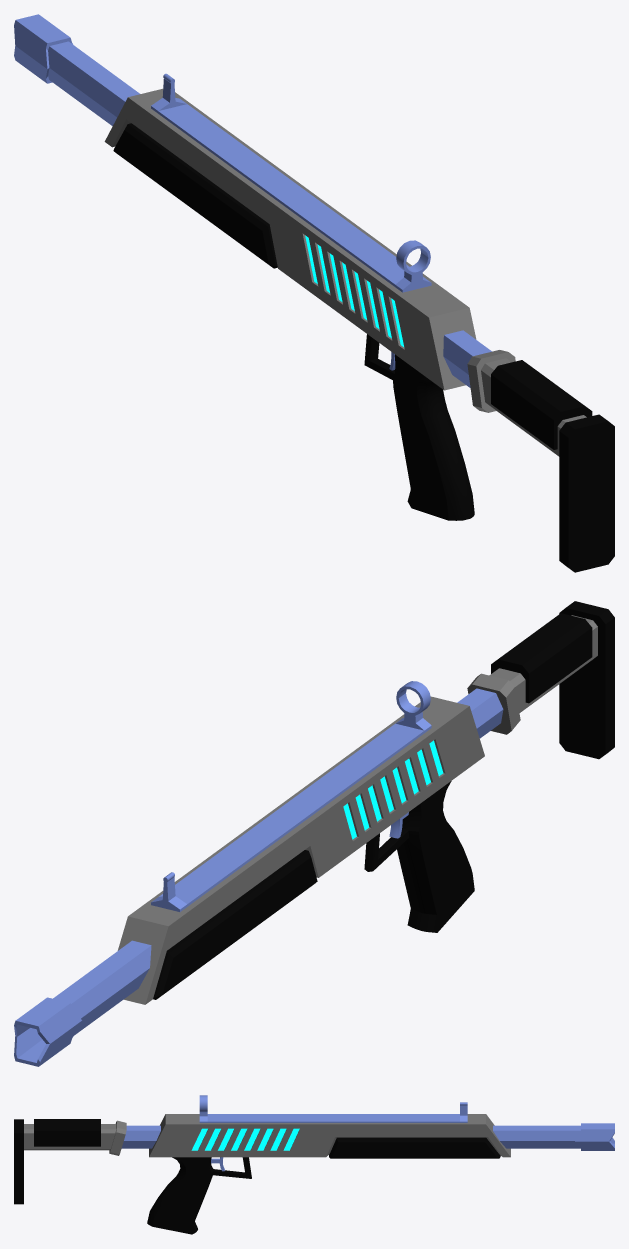
File: Rifle1.fbx
The picture shows the model from 3 angles, top to bottom: view 1: azimuth 30°, elevation 25°; view 2: azimuth 150°, elevation 25°; view 3: azimuth 270°, elevation 25°; orthographic projection. The views are drawn at different scales.
Visible parts, largest first — view 1: Rifle; view 2: Rifle; view 3: Rifle.
Boxes of the visible parts, left/top/right/bottom form: Rifle: left=14, top=14, right=614, bottom=572; Rifle: left=14, top=601, right=614, bottom=1066; Rifle: left=14, top=1095, right=614, bottom=1234.
Size of the model in its own units: 302 by 1502 by 6058.
